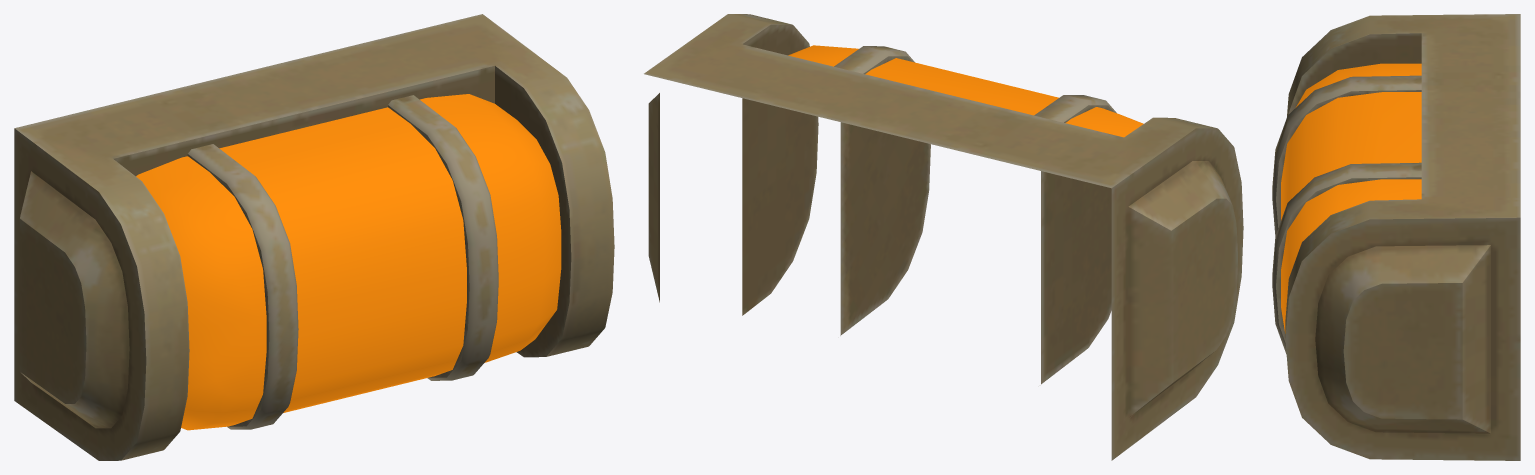
File: SM_electric_props_05.glb
3 views of the same model, side by side, from view 1: azimuth 30°, elevation 25°; view 2: azimuth 150°, elevation 25°; view 3: azimuth 270°, elevation 25° (orthographic). The views are drawn at different scales.
Visible parts, largest first — view 1: SM_electric_props_05; view 2: SM_electric_props_05; view 3: SM_electric_props_05.
Boxes of the visible parts, bbox=[...] form: SM_electric_props_05: bbox=[14, 14, 614, 460]; SM_electric_props_05: bbox=[644, 14, 1243, 460]; SM_electric_props_05: bbox=[1272, 14, 1520, 460].
Bounding box in the file's own units: 0.5801 × 0.2892 × 0.2678.
2 materials, 1 textured.
